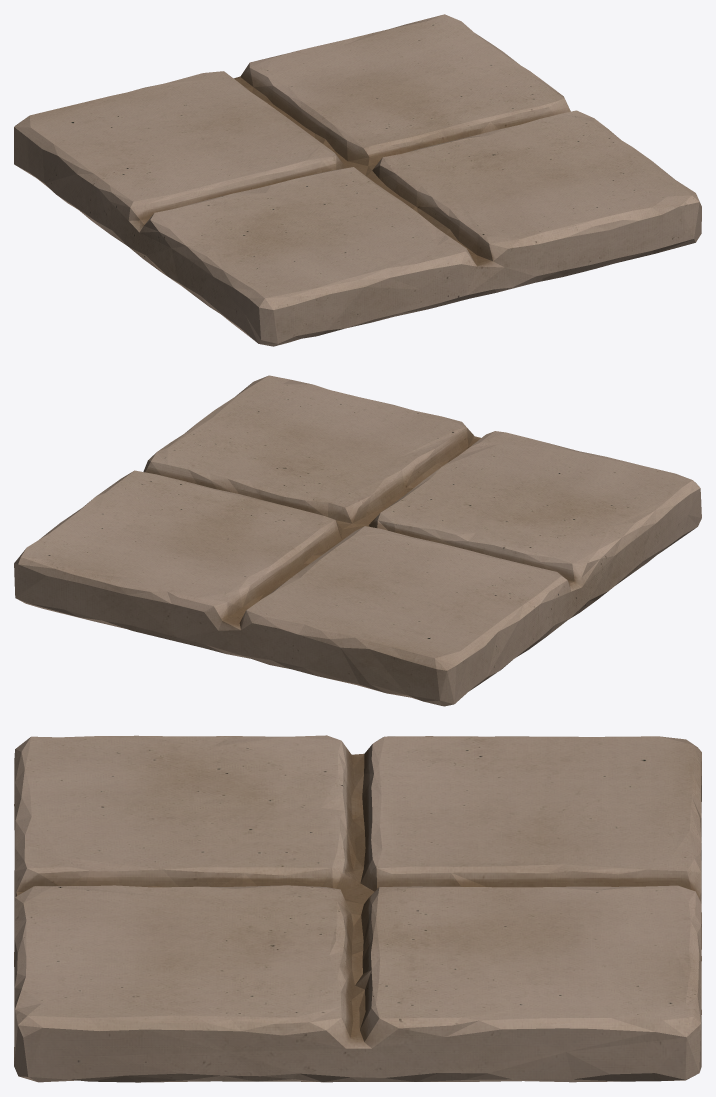
File: concrete_tile_source.glb
3 views of the same model, one above another, from view 1: azimuth 30°, elevation 25°; view 2: azimuth 150°, elevation 25°; view 3: azimuth 270°, elevation 25° (orthographic). The views are drawn at different scales.
Parts seen in each view (by area): view 1: world; view 2: world; view 3: world.
Boxes of the visible parts, <box> form: world: <box>14,14,701,346</box>; world: <box>14,375,701,706</box>; world: <box>14,735,701,1082</box>.
Bounding box in the file's own units: 1 × 0.1063 × 0.9996.
Materials: 1 (1 with a texture image).
